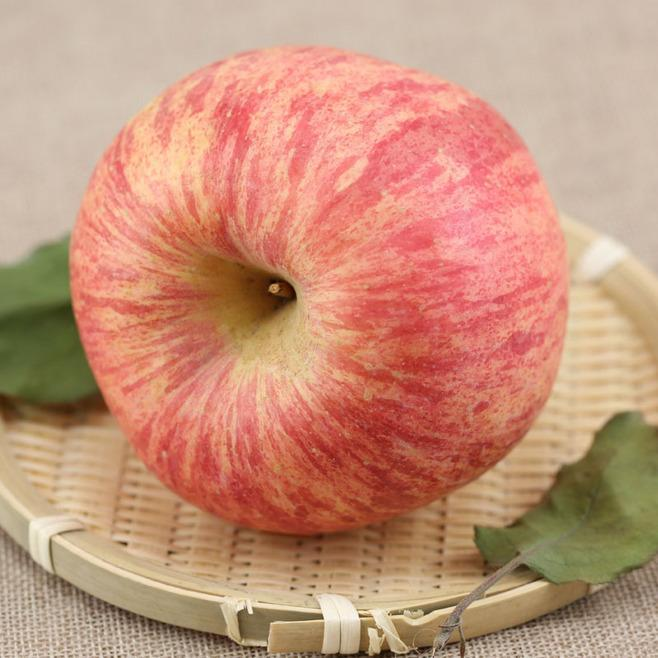apple: (66, 40, 571, 546)
